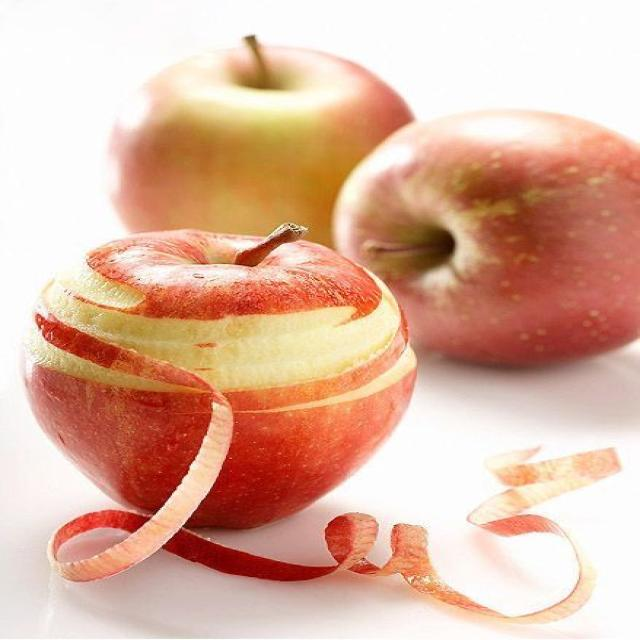apple: (25, 226, 415, 530), (336, 110, 639, 365), (110, 39, 412, 243)
